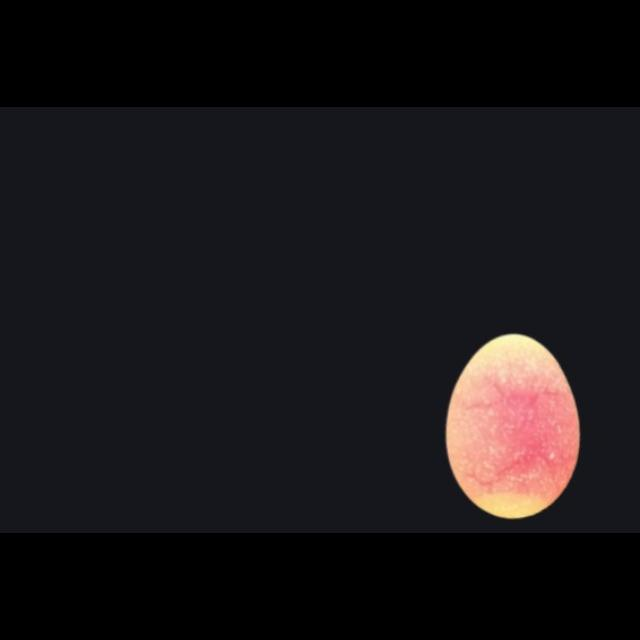Fertile: (446, 334, 580, 518)
